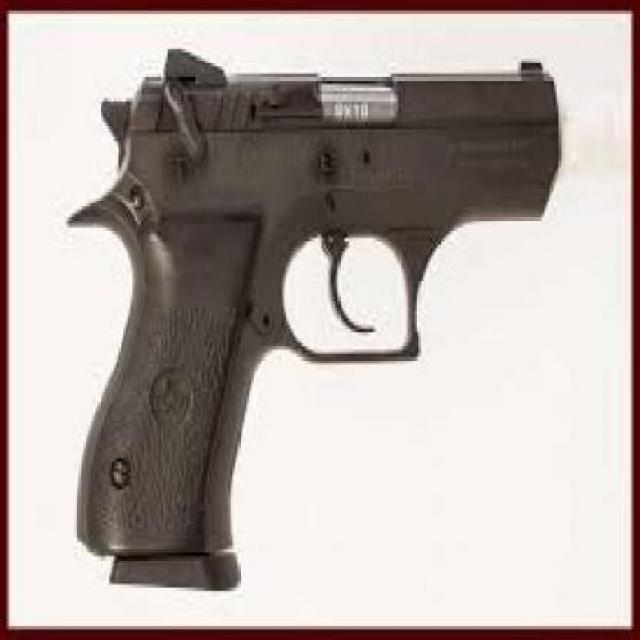Pistol: (61, 41, 562, 587)
